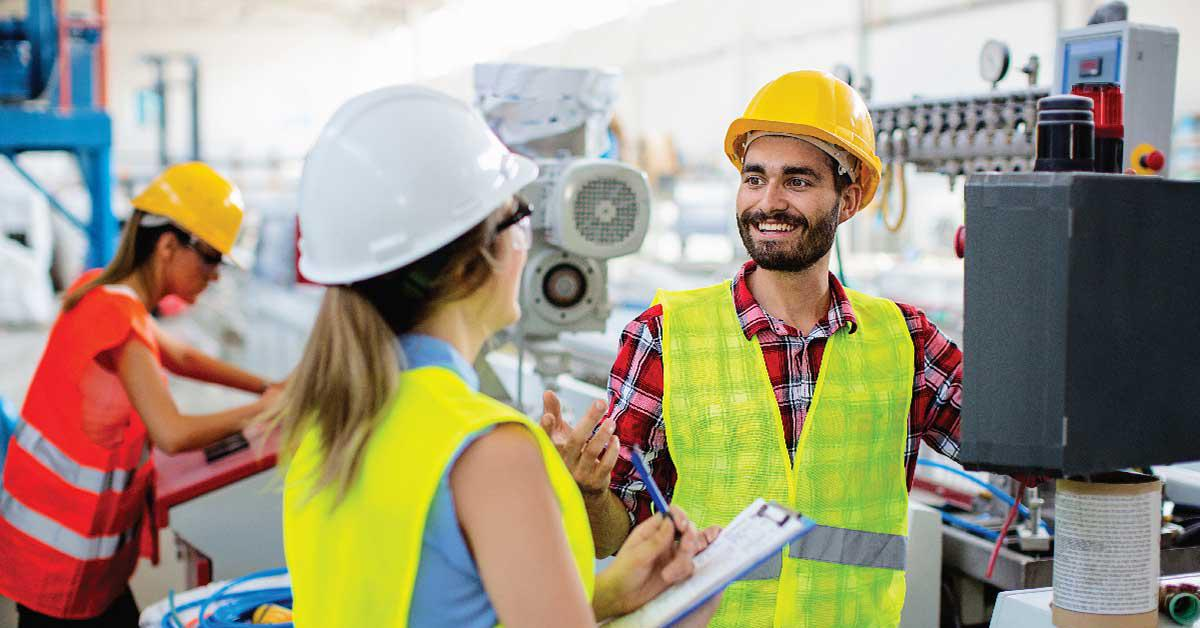helmet: (287, 83, 532, 284), (723, 70, 885, 199), (133, 161, 244, 255)
